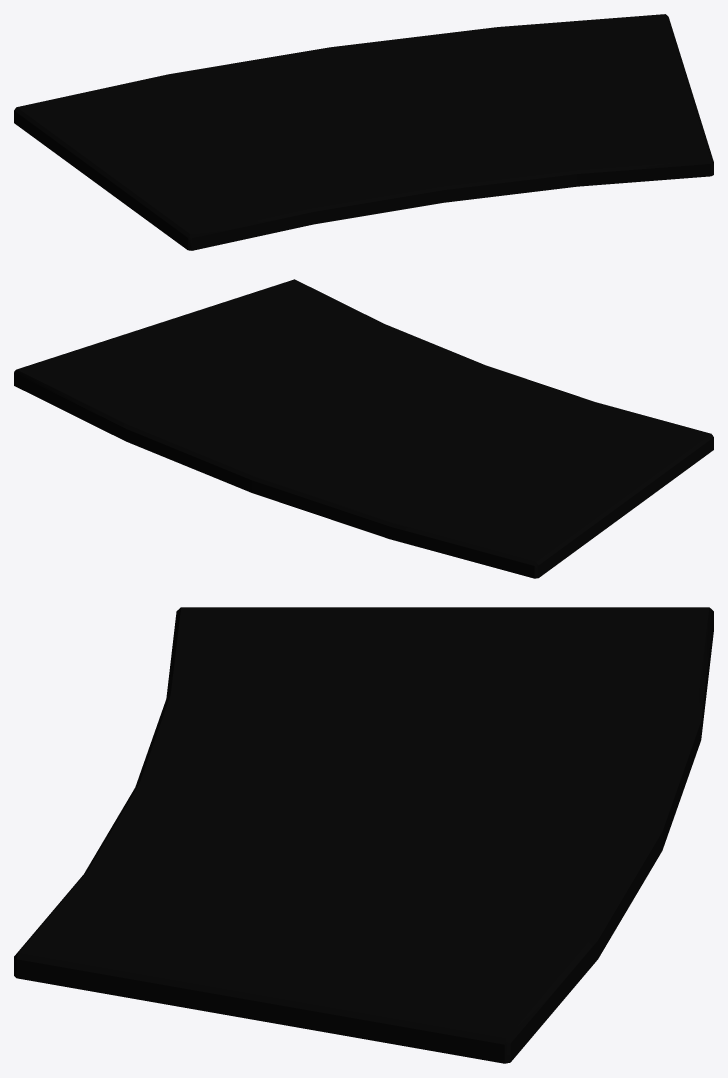
Rendered from ring4.FBX.
3 views of the same model, one above another, from view 1: azimuth 30°, elevation 25°; view 2: azimuth 150°, elevation 25°; view 3: azimuth 270°, elevation 25° (orthographic). The views are drawn at different scales.
Parts seen in each view (by area): view 1: ring4; view 2: ring4; view 3: ring4.
Boxes of the visible parts, bbox=[...] form: ring4: bbox=[14, 14, 713, 250]; ring4: bbox=[14, 279, 713, 578]; ring4: bbox=[14, 607, 713, 1063].
Size of the model in its own units: 221 by 5.51 by 150.
Materials: 1 (1 with a texture image).
